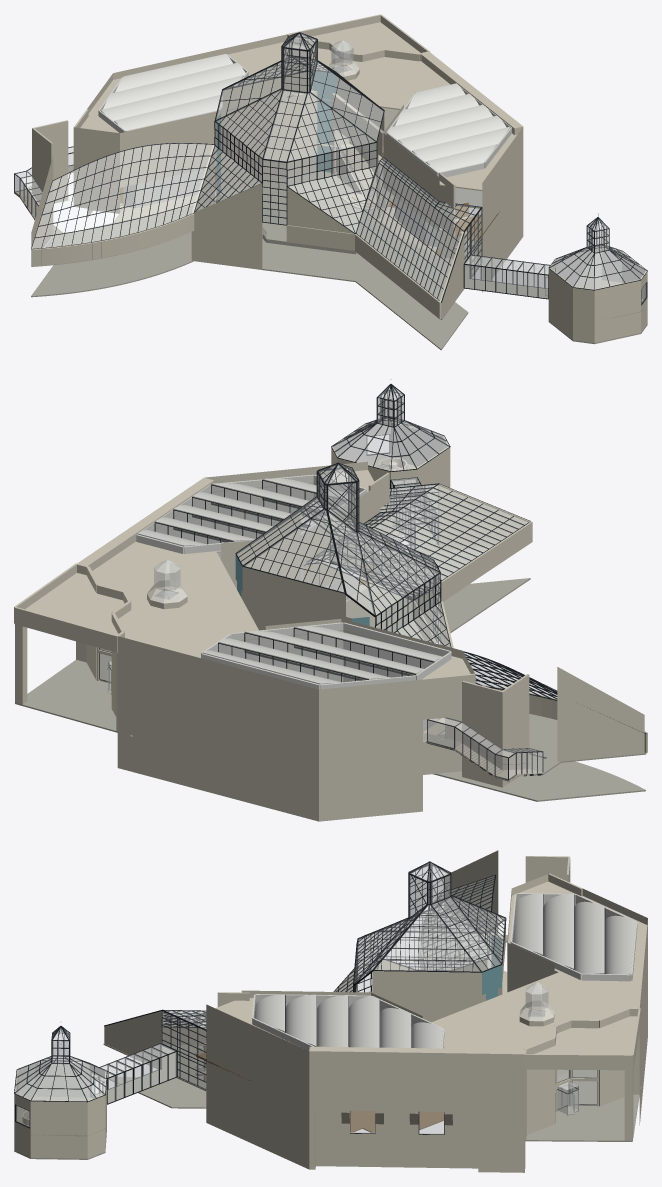
Rendered from MUDAM_R28_ZEMIN_GALERI_GIRIS_v002_preview.glb.
3 renders of one model, top to bottom at view 1: azimuth 30°, elevation 25°; view 2: azimuth 150°, elevation 25°; view 3: azimuth 270°, elevation 25°, orthographic. The views are drawn at different scales.
Parts seen in each view (by area): view 1: P05_ZONE_LM1_GALLERIES_FOYER, P05_MAIN_ROOF_DECK, P05_MAIN_ATRIUM_BASE_3, R28_W_HIGH_GALLERY_WALL, R07_STAIRWELL_STONE_NORTH, P05_FRONT_0, P05_FLOOR_L00_GH, P05_GALLERY_HALL_WEST2, R28_E_HIGH_GALLERY_WALL, P05_FLOOR_L00_EAST_GARDEN, R17_WALL_0, P05_FLOOR_L00_WEST_CAFE (+38 smaller); view 2: P05_FRONT_9, P05_FRONT_10, P05_MAIN_ROOF_DECK, P05_ZONE_LM1_GALLERIES_FOYER, P05_WEST_END, P07_CANOPY_PAVING_DISPLAY, R14_INNER_WALL_B, R11_STONE_END, P07_CANOPY_SLAB_ENVELOPE, P05_FLOOR_L00_EAST_GARDEN, P06_HIGH_EAVE_UPSTAND_3, R28_E_HIGH_GALLERY_WALL (+32 smaller); view 3: R27_CONTINUOUS_HEAD, P05_FRONT_0, P05_MAIN_ROOF_DECK, R17_WALL_6, P07_CANOPY_PAVING_DISPLAY, R27_END_PIER, P06_HIGH_EAVE_UPSTAND_5, P07_CANOPY_SLAB_ENVELOPE, P05_WEST_END, R24_SHELL_W_02, R11_STONE_END, R24_SHELL_W_01 (+36 smaller).
Boxes of the visible parts, x1,y1,x2,y2 form: P05_ZONE_LM1_GALLERIES_FOYER: (31,232,468,350); P05_MAIN_ROOF_DECK: (75,42,522,190); P05_MAIN_ATRIUM_BASE_3: (221,91,317,191); R28_W_HIGH_GALLERY_WALL: (120,110,224,187); R07_STAIRWELL_STONE_NORTH: (191,183,262,269); P05_FRONT_0: (482,127,523,292); P05_FLOOR_L00_GH: (216,172,386,251); P05_GALLERY_HALL_WEST2: (73,127,119,212); R28_E_HIGH_GALLERY_WALL: (383,133,439,231); P05_FLOOR_L00_EAST_GARDEN: (357,220,482,319); R17_WALL_0: (594,279,640,342); P05_FLOOR_L00_WEST_CAFE: (31,202,214,266); P05_FRONT_9: (117,636,318,821); P05_FRONT_10: (319,679,422,821); P05_MAIN_ROOF_DECK: (92,470,475,699); P05_ZONE_LM1_GALLERIES_FOYER: (433,578,645,801); P05_WEST_END: (557,667,644,761); P07_CANOPY_PAVING_DISPLAY: (15,660,117,732); R14_INNER_WALL_B: (462,681,503,787); R11_STONE_END: (439,484,530,550); P07_CANOPY_SLAB_ENVELOPE: (25,573,124,635); P05_FLOOR_L00_EAST_GARDEN: (346,546,492,623); P06_HIGH_EAVE_UPSTAND_3: (242,567,345,618); R28_E_HIGH_GALLERY_WALL: (303,484,379,586); R27_CONTINUOUS_HEAD: (309,1046,524,1113); P05_FRONT_0: (206,1004,309,1169); P05_MAIN_ROOF_DECK: (207,881,647,1062); R17_WALL_6: (30,1100,87,1158); P07_CANOPY_PAVING_DISPLAY: (524,1094,639,1141); R27_END_PIER: (478,1112,525,1172); P06_HIGH_EAVE_UPSTAND_5: (372,971,481,994); P07_CANOPY_SLAB_ENVELOPE: (535,1016,637,1054); P05_WEST_END: (444,850,498,935); R24_SHELL_W_02: (574,901,604,973); R11_STONE_END: (104,1011,163,1069); R24_SHELL_W_01: (543,893,573,969).
Size of the model in its own units: 80.45 by 35.94 by 93.32.
